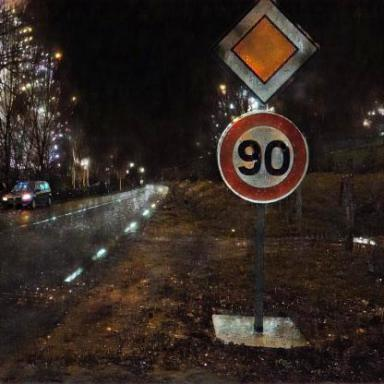Speed_limit_90: (221, 112, 306, 201)
